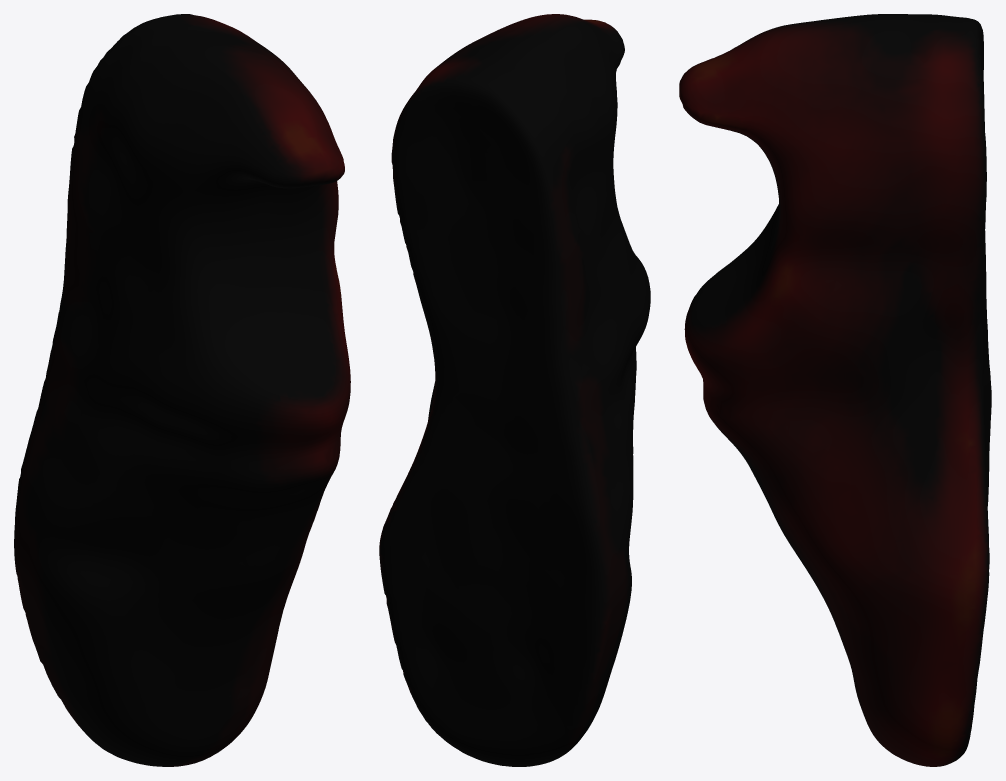
The model's file is shoe3.glb.
3 renders of one model, left to right at view 1: azimuth 30°, elevation 25°; view 2: azimuth 150°, elevation 25°; view 3: azimuth 270°, elevation 25°, orthographic. The views are drawn at different scales.
Bounding box in the file's own units: 0.3496 × 0.9995 × 0.3827.
